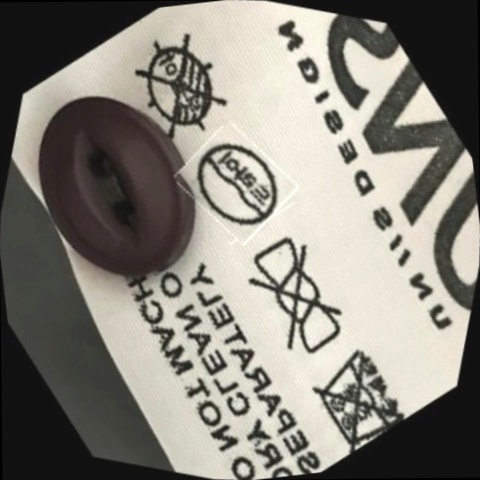DN_dry: (115, 21, 246, 153)
DN_wring: (222, 225, 369, 372)
dry_clean: (177, 124, 296, 245)
hand_wash: (294, 328, 420, 461)
